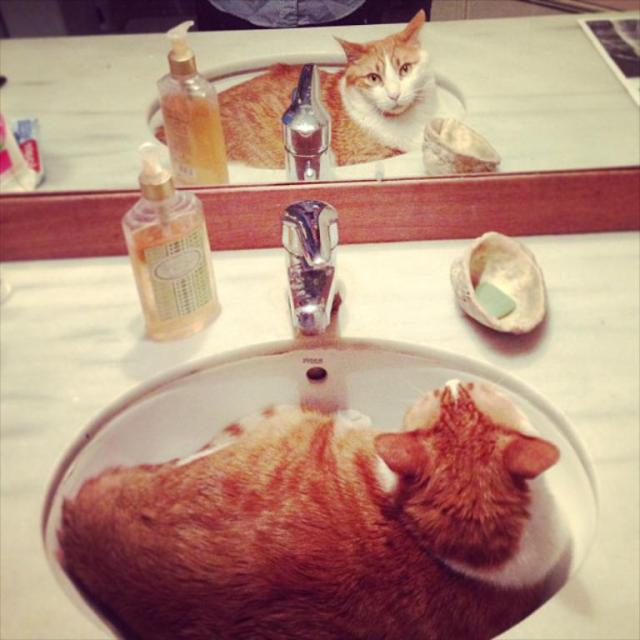Cat: (49, 374, 562, 638)
